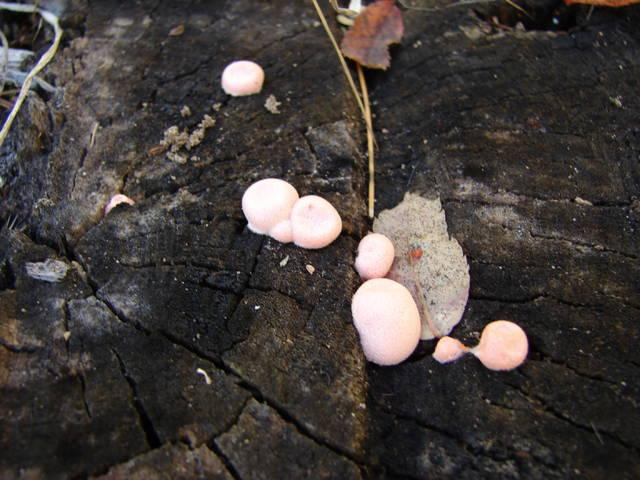poisonous_mushroom: (370, 190, 471, 340), (349, 276, 421, 366), (431, 318, 529, 372), (240, 176, 298, 242), (289, 193, 342, 249), (353, 231, 395, 279), (220, 58, 265, 97)
